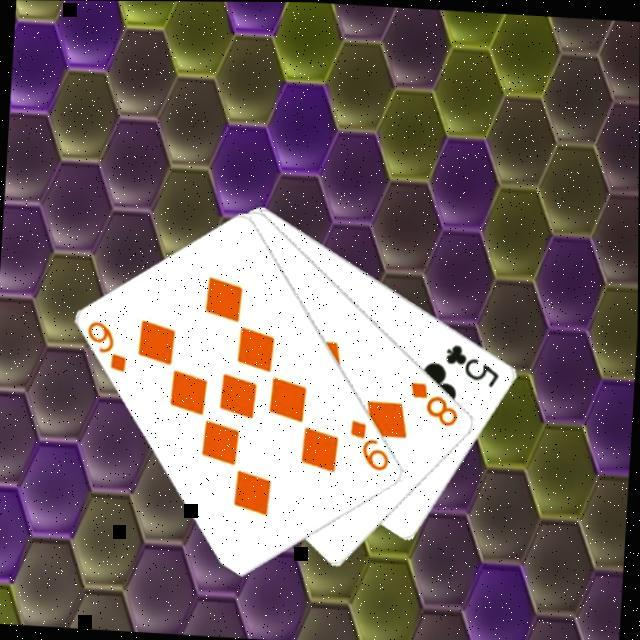5C: (441, 340, 504, 391)
8D: (405, 378, 463, 429)
9D: (82, 318, 132, 377), (345, 416, 394, 474)
